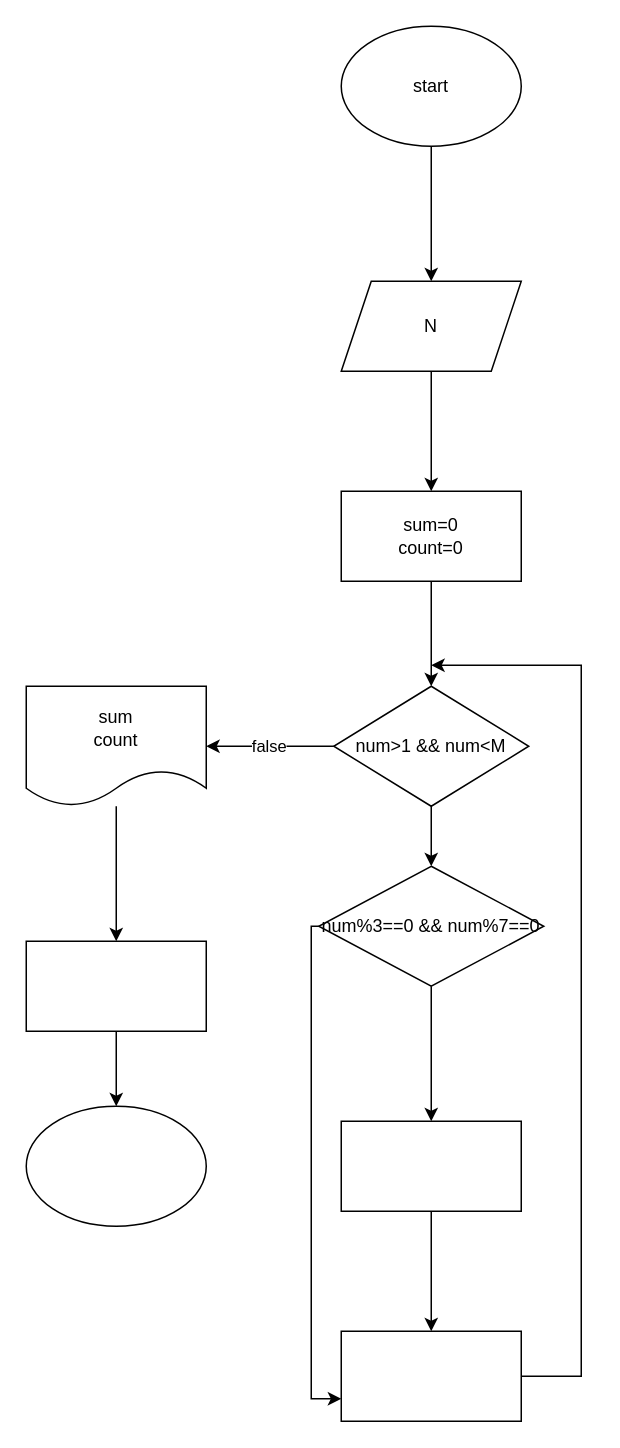
The diagram is 620 pixels wide and 1448 high, and some of its shapes have lost their labels. The shapes that lost their labels are listed below. From the top down, each one's centre as x and y in pixels, then its label:
At point 115,985: "sum/count".
At point 430,1165: "sum+=num count+=1".
At point 430,1375: "num++".
